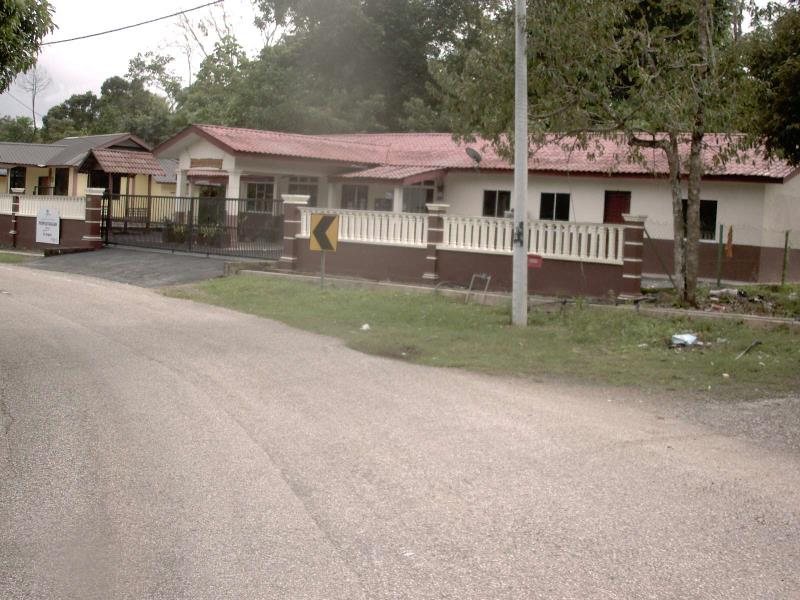traffic_sign: (303, 202, 346, 262)
